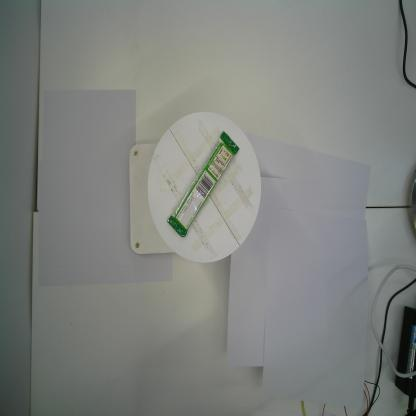Chocolate: (165, 128, 240, 239)
